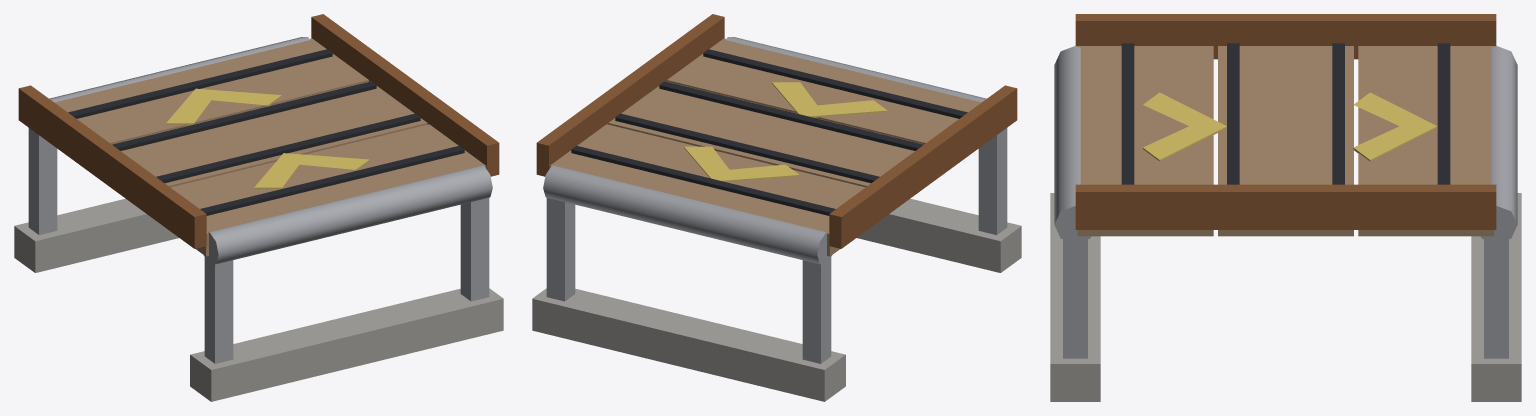
Rendered from build_conveyor.glb.
The picture shows the model from 3 angles, left to right: view 1: azimuth 30°, elevation 25°; view 2: azimuth 150°, elevation 25°; view 3: azimuth 270°, elevation 25°; orthographic projection. The views are drawn at different scales.
Visible parts, largest first — view 1: Baked, BorderL, BorderR, _MeshInstance3D_281, _MeshInstance3D_283, _MeshInstance3D_282, _MeshInstance3D_284; view 2: Baked, BorderL, BorderR, _MeshInstance3D_284, _MeshInstance3D_283, _MeshInstance3D_281, _MeshInstance3D_282; view 3: Baked, BorderR, BorderL, _MeshInstance3D_281, _MeshInstance3D_284, _MeshInstance3D_282, _MeshInstance3D_283.
Boxes of the visible parts, bbox=[...] form: Baked: bbox=[14, 37, 503, 401]; BorderL: bbox=[18, 85, 206, 248]; BorderR: bbox=[311, 14, 499, 176]; _MeshInstance3D_281: bbox=[200, 145, 464, 215]; _MeshInstance3D_283: bbox=[112, 81, 376, 150]; _MeshInstance3D_282: bbox=[156, 113, 420, 183]; _MeshInstance3D_284: bbox=[68, 49, 332, 118]; Baked: bbox=[532, 37, 1021, 401]; BorderL: bbox=[829, 85, 1017, 248]; BorderR: bbox=[536, 14, 724, 176]; _MeshInstance3D_284: bbox=[571, 145, 835, 215]; _MeshInstance3D_283: bbox=[615, 113, 879, 183]; _MeshInstance3D_281: bbox=[703, 49, 967, 118]; _MeshInstance3D_282: bbox=[659, 81, 923, 150]; Baked: bbox=[1050, 46, 1521, 401]; BorderR: bbox=[1075, 184, 1496, 229]; BorderL: bbox=[1075, 14, 1496, 59]; _MeshInstance3D_281: bbox=[1121, 43, 1134, 184]; _MeshInstance3D_284: bbox=[1437, 43, 1450, 184]; _MeshInstance3D_282: bbox=[1227, 43, 1239, 184]; _MeshInstance3D_283: bbox=[1332, 43, 1344, 184].
Bounding box in the file's own units: 1 × 0.56 × 1.12.
